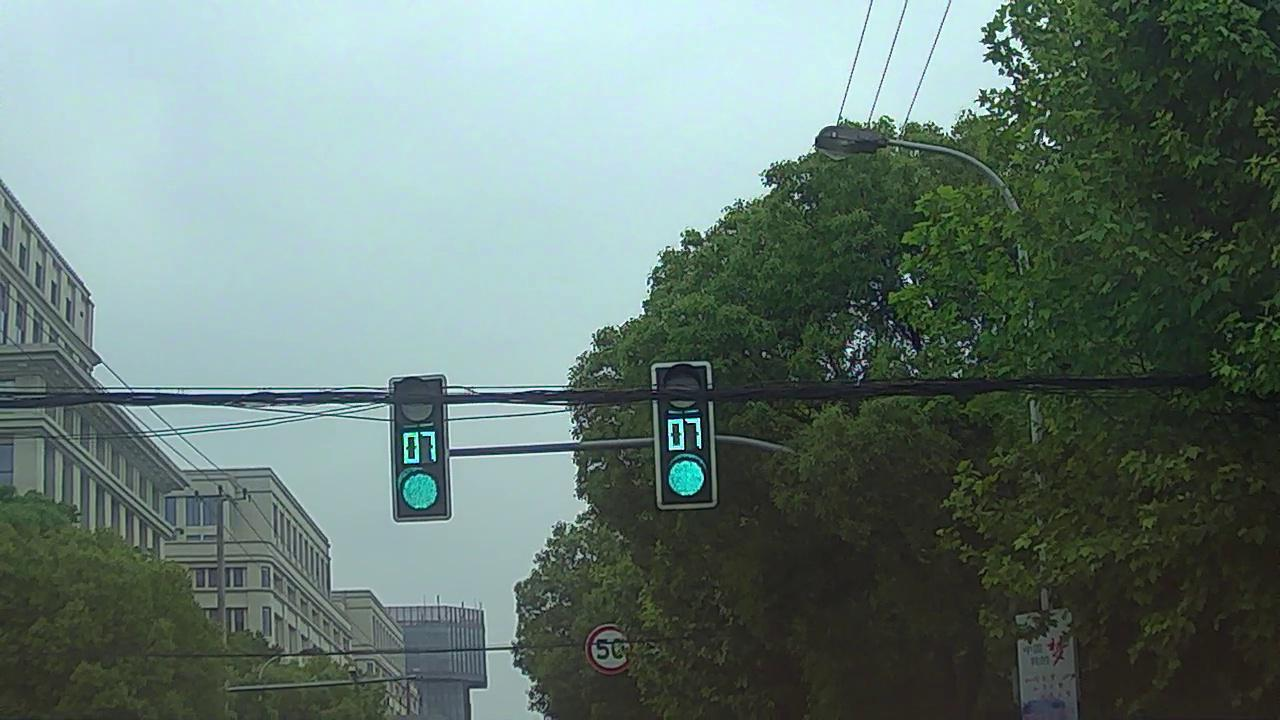traffic_light: (657, 368, 713, 507), (395, 377, 448, 522)
